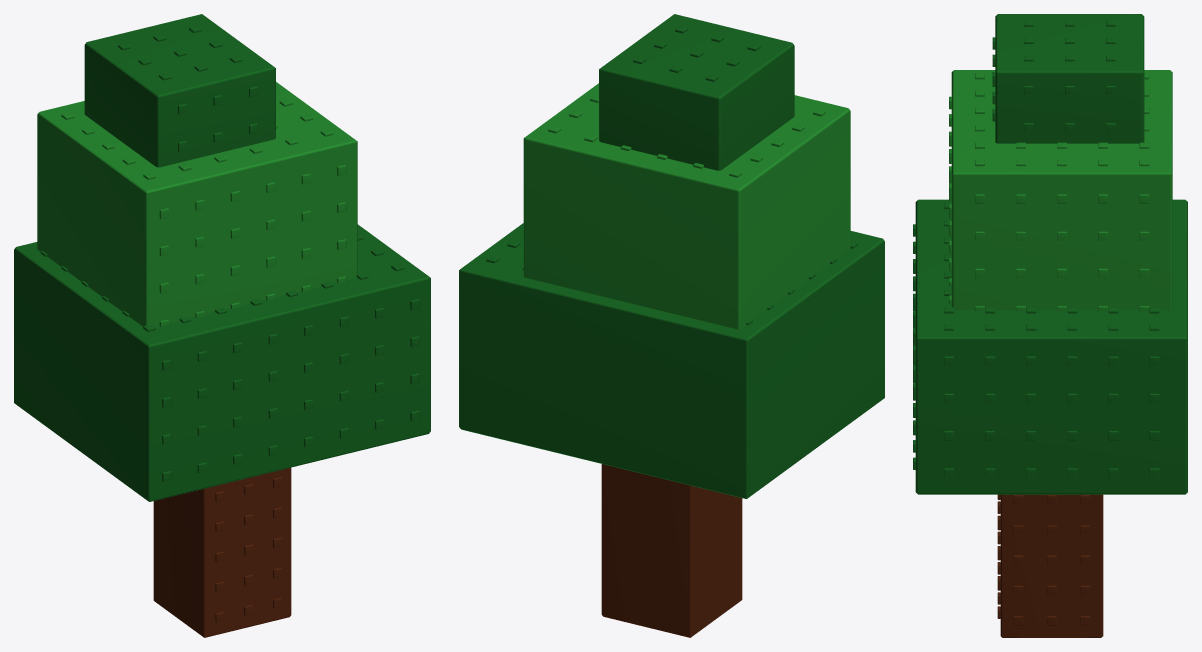
The model's file is BrickTree.glb.
3 views of the same model, side by side, from view 1: azimuth 30°, elevation 25°; view 2: azimuth 150°, elevation 25°; view 3: azimuth 270°, elevation 25° (orthographic). The views are drawn at different scales.
Parts seen in each view (by area): view 1: BrickTree; view 2: BrickTree; view 3: BrickTree.
Boxes of the visible parts, box(x1,y1,x2,y2) form: BrickTree: box(14, 14, 430, 637); BrickTree: box(459, 14, 884, 637); BrickTree: box(913, 14, 1187, 637).
Size of the model in its own units: 6.45 by 12.05 by 5.35.
Materials: 1 (1 with a texture image).
